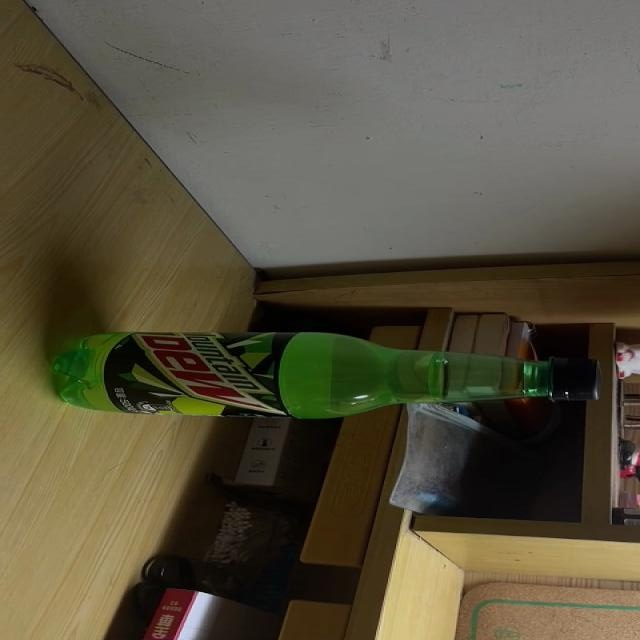Mountain-Dew: (53, 331, 602, 418)
